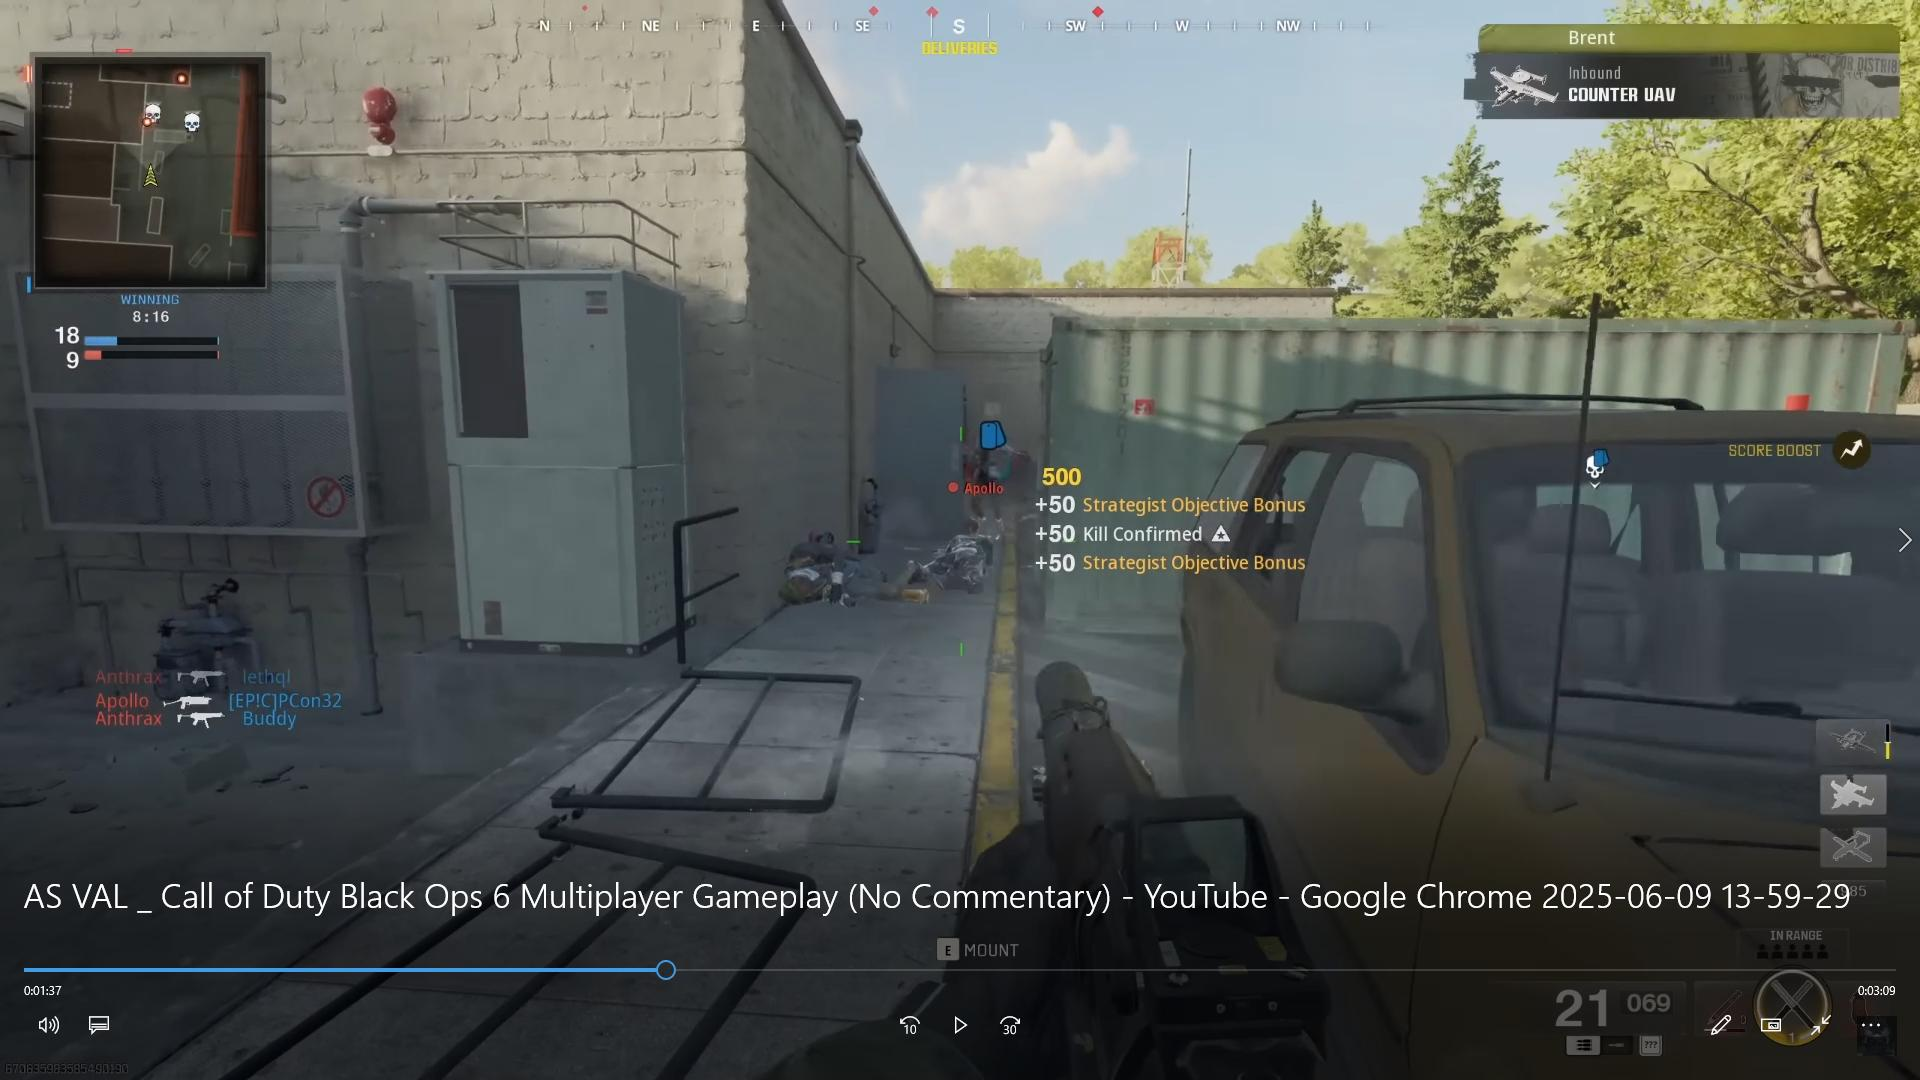Enemy: (932, 516, 1013, 611)
